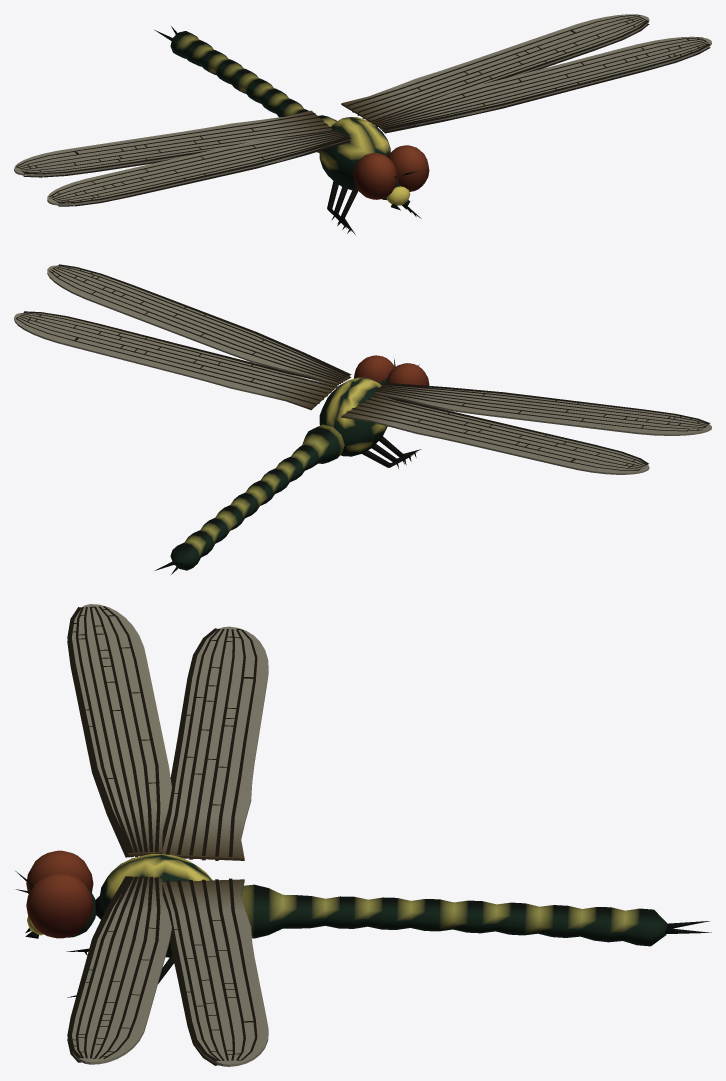
File: Namurotypus.fbx
3 renders of one model, top to bottom at view 1: azimuth 30°, elevation 25°; view 2: azimuth 150°, elevation 25°; view 3: azimuth 270°, elevation 25°, orthographic. The views are drawn at different scales.
Visible parts, largest first — view 1: Meganeura; view 2: Meganeura; view 3: Meganeura.
Part boxes in pixels (box(x1,y1,x2,y2)): Meganeura: box(14, 14, 711, 234); Meganeura: box(14, 264, 711, 574); Meganeura: box(15, 604, 711, 1066).
Size of the model in its own units: 1.68 by 0.253 by 1.08.
